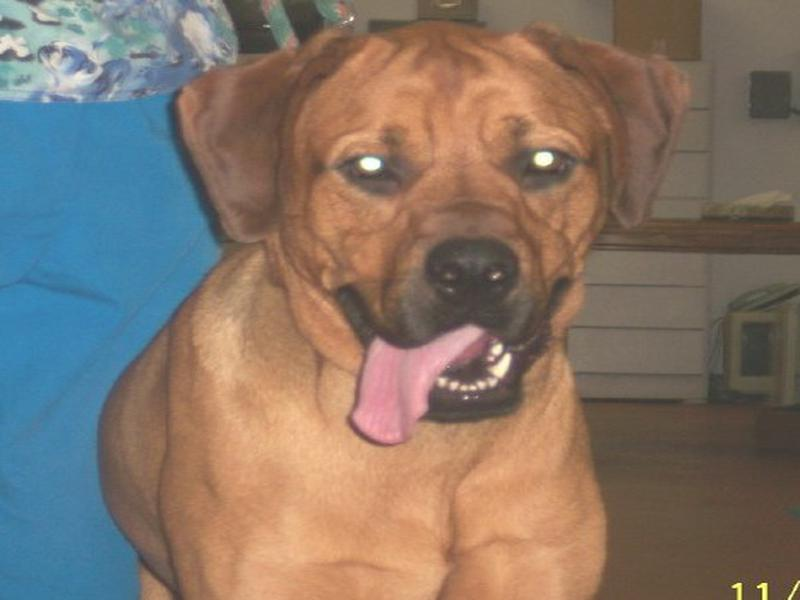dog: (92, 20, 665, 597)
